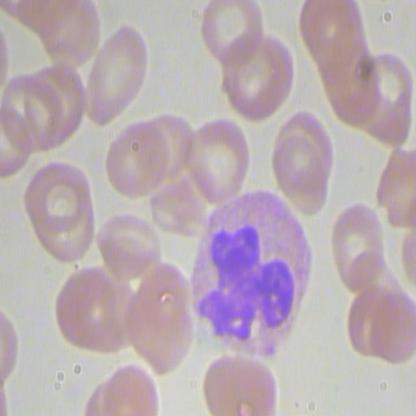RBC: (216, 25, 297, 124), (77, 21, 149, 131), (185, 116, 255, 208), (325, 198, 389, 296), (1, 61, 64, 159), (24, 162, 94, 242), (200, 353, 285, 415), (272, 130, 332, 217), (101, 120, 166, 198), (94, 211, 166, 277), (197, 1, 266, 68)
WBC: (185, 188, 317, 363)
